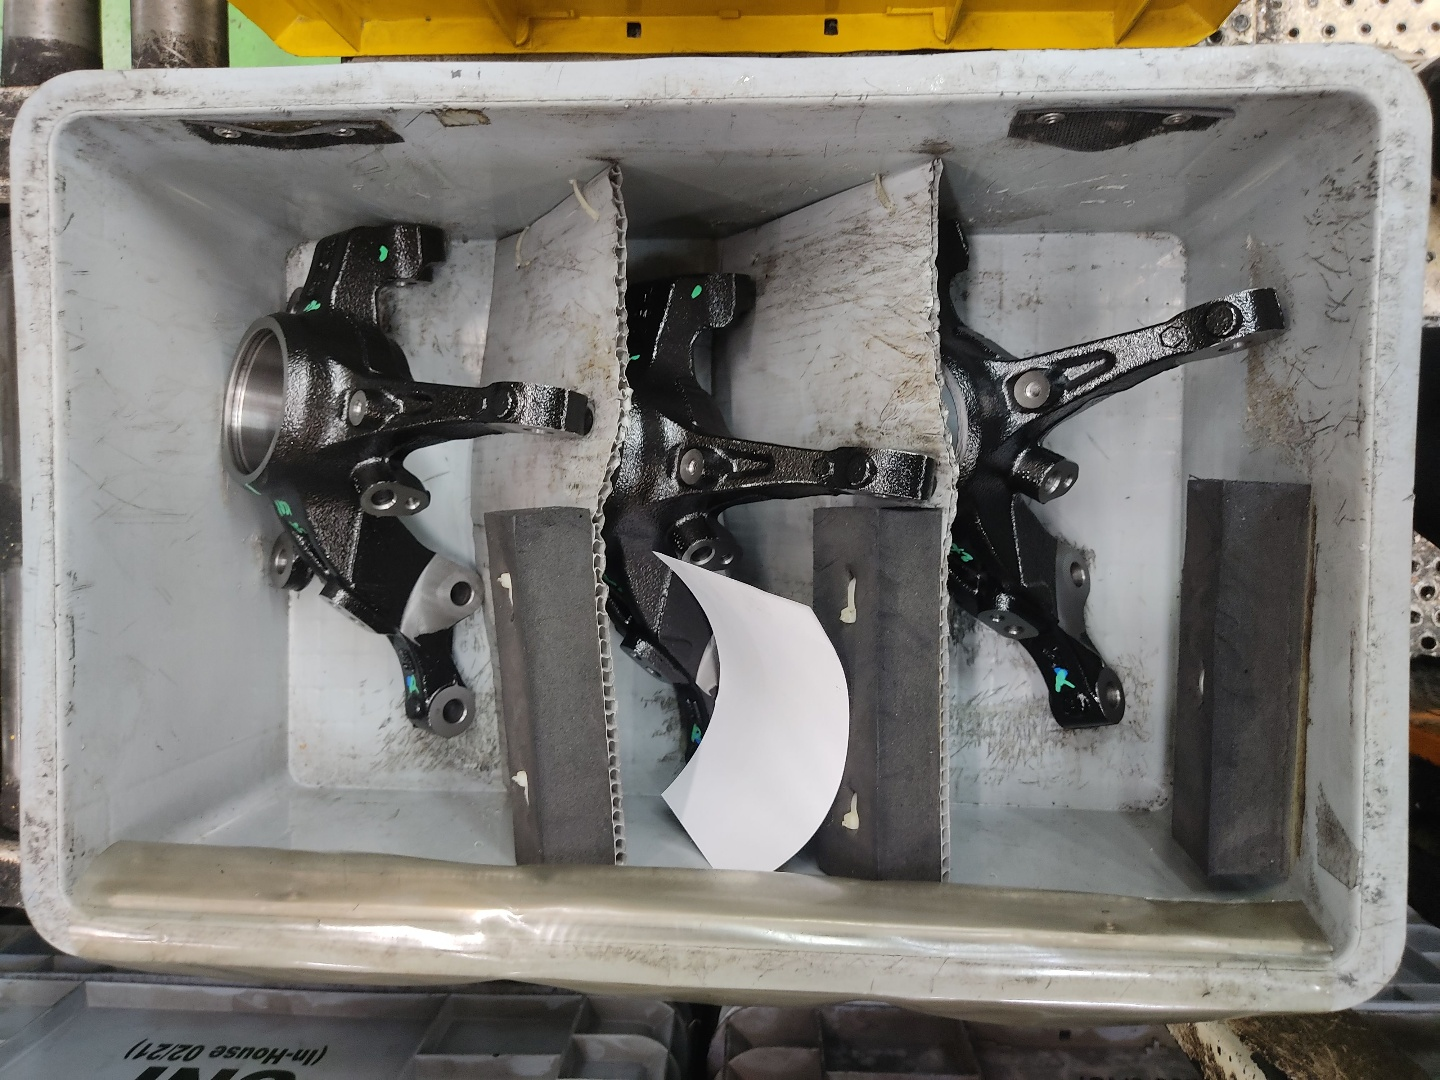abs-rh: (214, 210, 601, 743), (927, 193, 1290, 745), (610, 258, 943, 792)
